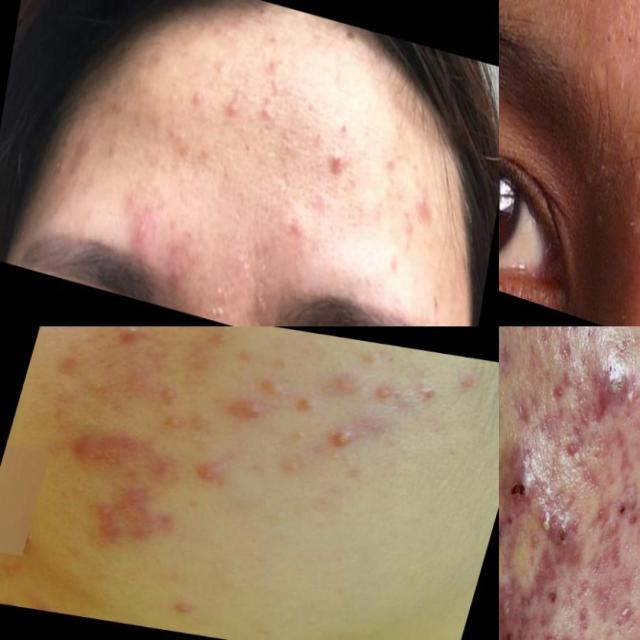acne_scars: (590, 497, 614, 531), (509, 326, 546, 342), (540, 626, 577, 640)
comedone: (589, 10, 618, 64), (583, 210, 606, 267), (283, 415, 319, 450), (158, 411, 196, 442), (616, 22, 640, 71), (97, 326, 139, 351), (366, 382, 402, 410), (155, 598, 191, 626), (574, 160, 604, 192), (228, 249, 258, 278), (448, 371, 480, 398), (201, 293, 230, 322), (262, 70, 287, 103), (221, 99, 244, 128), (415, 382, 438, 411), (628, 152, 640, 205), (256, 102, 276, 132), (196, 108, 217, 132)
papule: (204, 392, 274, 435), (191, 453, 247, 496), (310, 133, 347, 183), (123, 221, 155, 256), (404, 188, 432, 228)
pustule: (310, 415, 360, 459)
sebo-crystan-conglo: (582, 348, 634, 445), (530, 497, 586, 568), (499, 437, 540, 520), (498, 580, 527, 640), (549, 326, 585, 359)
